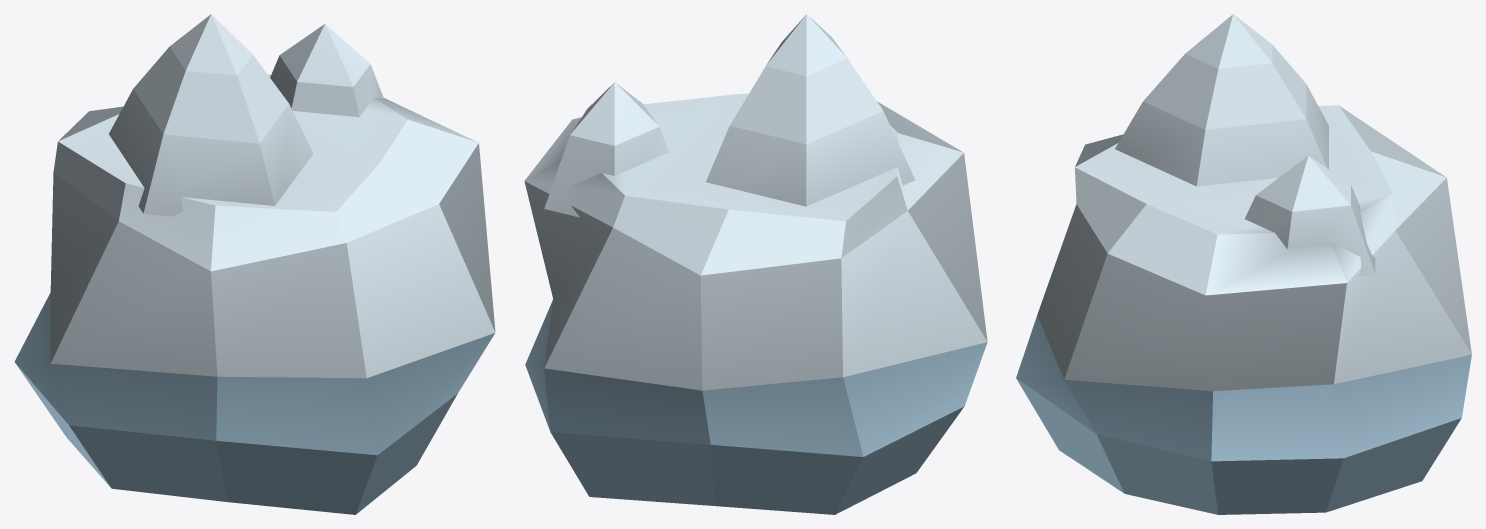
File: iceberg.glb
3 renders of one model, left to right at view 1: azimuth 30°, elevation 25°; view 2: azimuth 150°, elevation 25°; view 3: azimuth 270°, elevation 25°, orthographic. The views are drawn at different scales.
Parts seen in each view (by area): view 1: ice, ice_deep; view 2: ice, ice_deep; view 3: ice, ice_deep.
Boxes of the visible parts, left/top/right/bottom form: ice: left=50, top=14, right=495, bottom=378; ice_deep: left=14, top=292, right=494, bottom=514; ice: left=524, top=14, right=987, bottom=390; ice_deep: left=525, top=300, right=987, bottom=514; ice: left=1037, top=14, right=1471, bottom=391; ice_deep: left=1016, top=315, right=1471, bottom=514.
Bounding box in the file's own units: 1 × 1 × 1.
